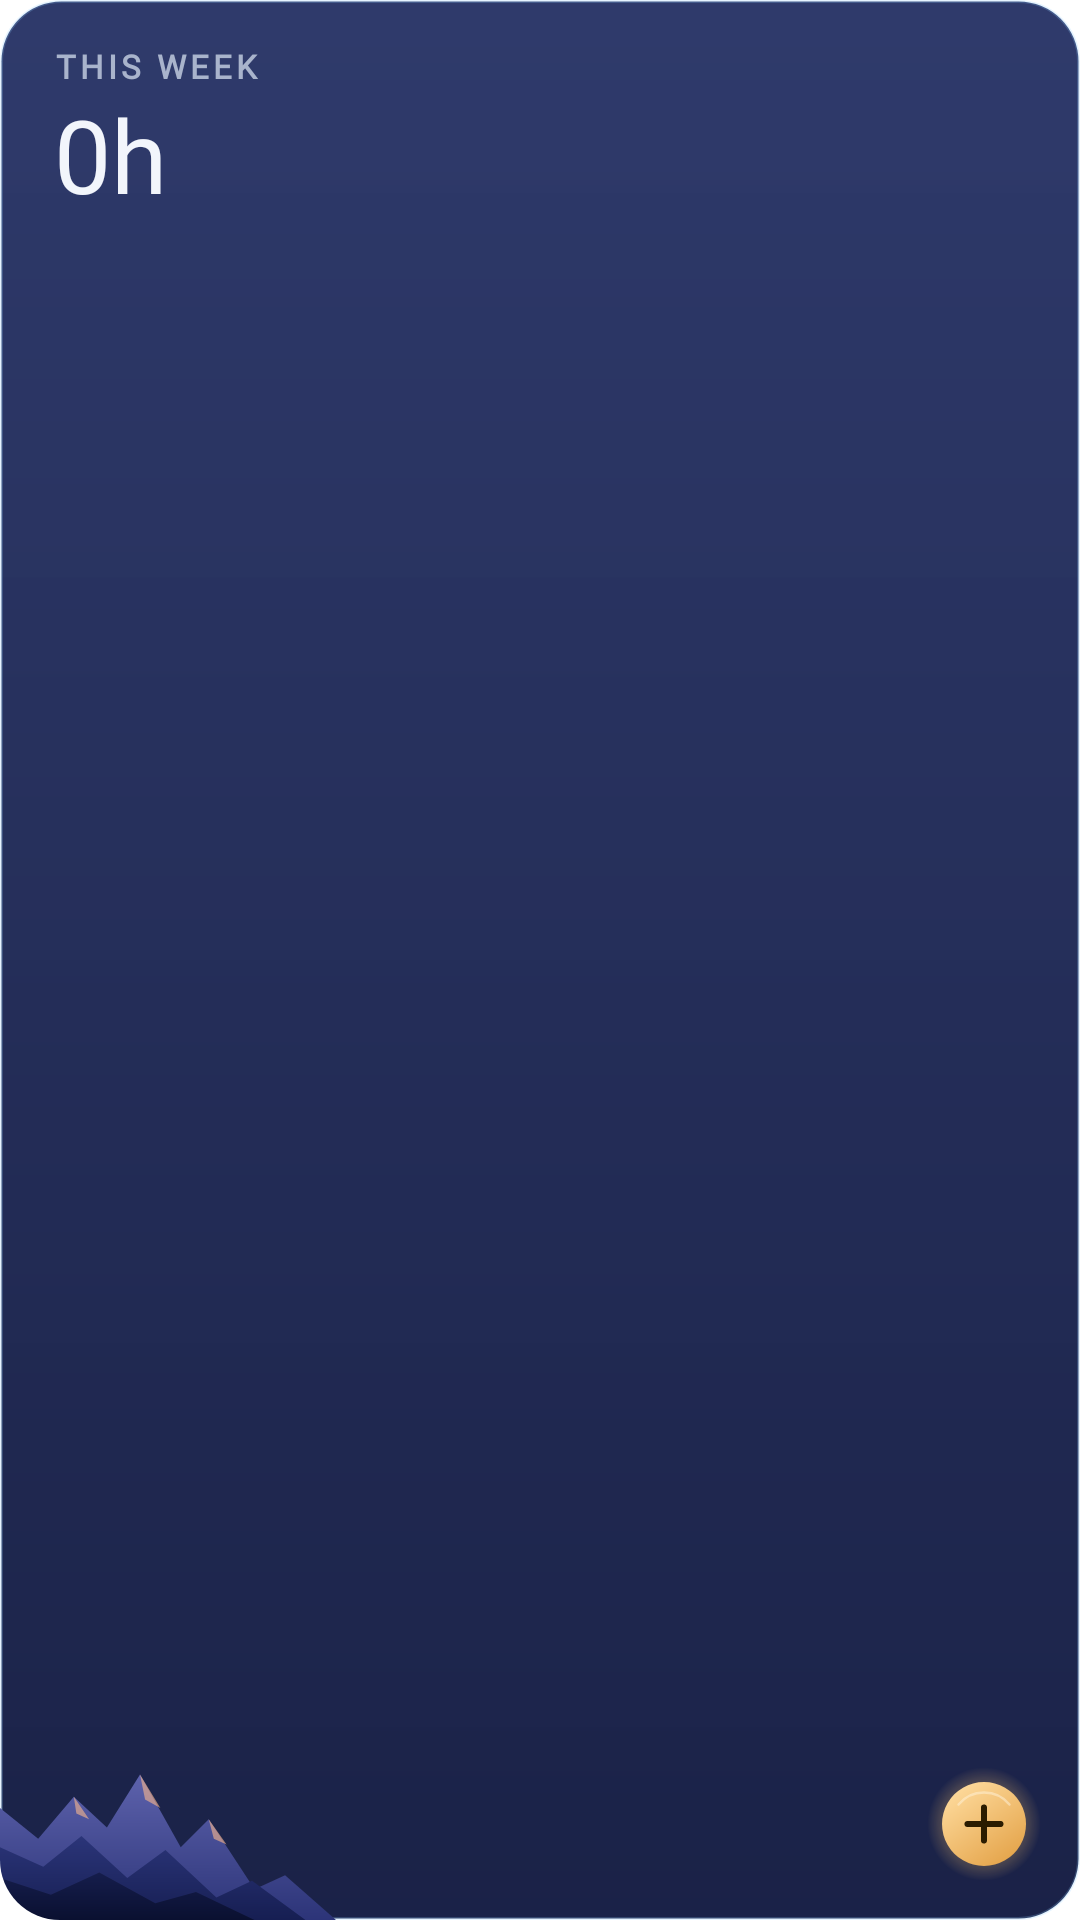

Where to tap for icons on this 1080w x 1920h app screen, as [x,y]:
Add lesson: [984,1823]
widget ridges: [168,1836]
